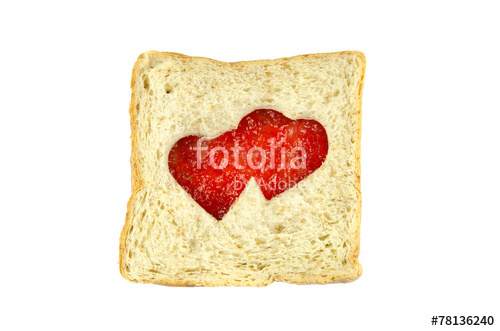slice of bread: (115, 48, 369, 292)
